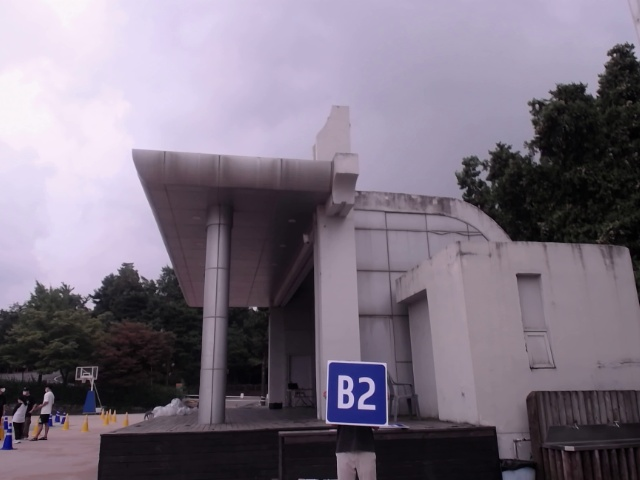delivery_b2: (326, 359, 389, 426)
